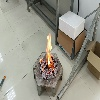fire: (40, 33, 54, 74)
